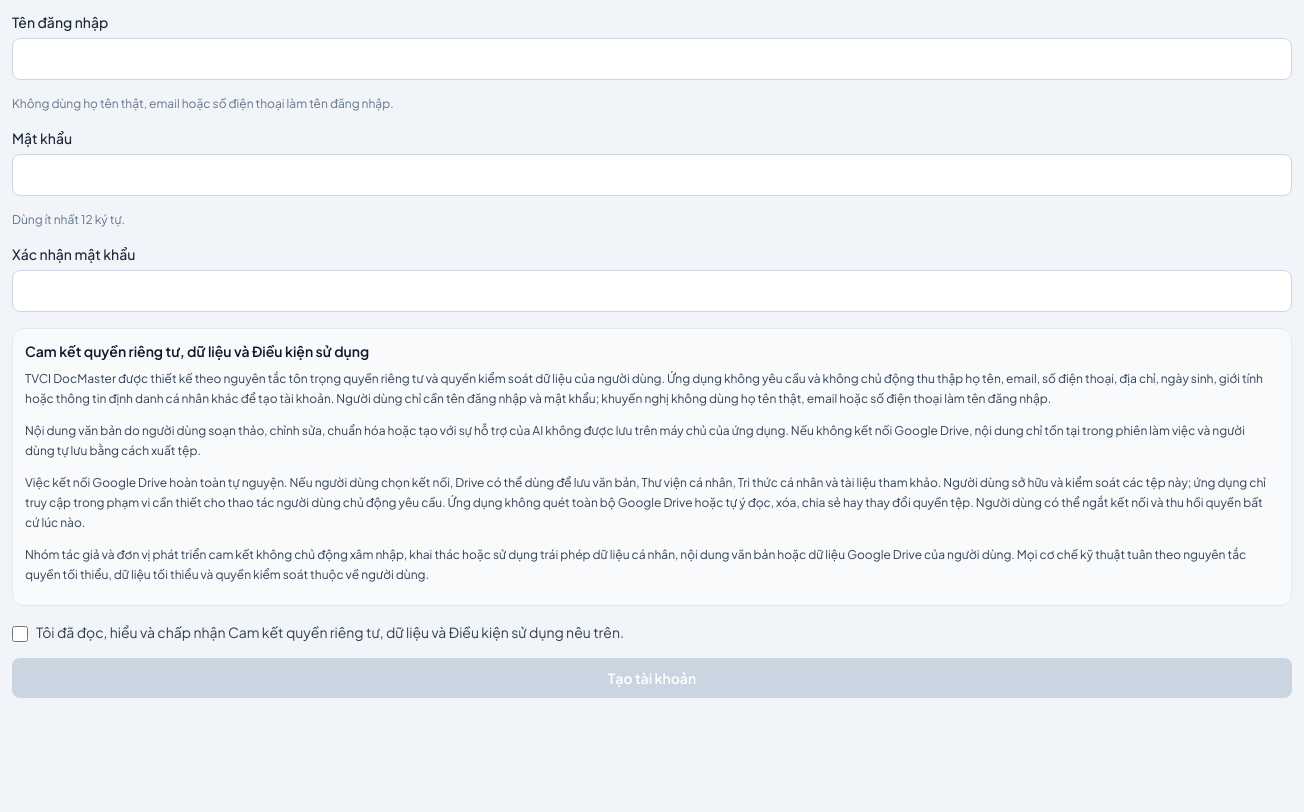
Test case: registration privacy and recovery UI › shows the recovery code once after successful registration
Type "writer_01" into the field labelled "Tên đăng nhập".
click(652, 59); type("writer_01")  # box [12,38,1292,80]
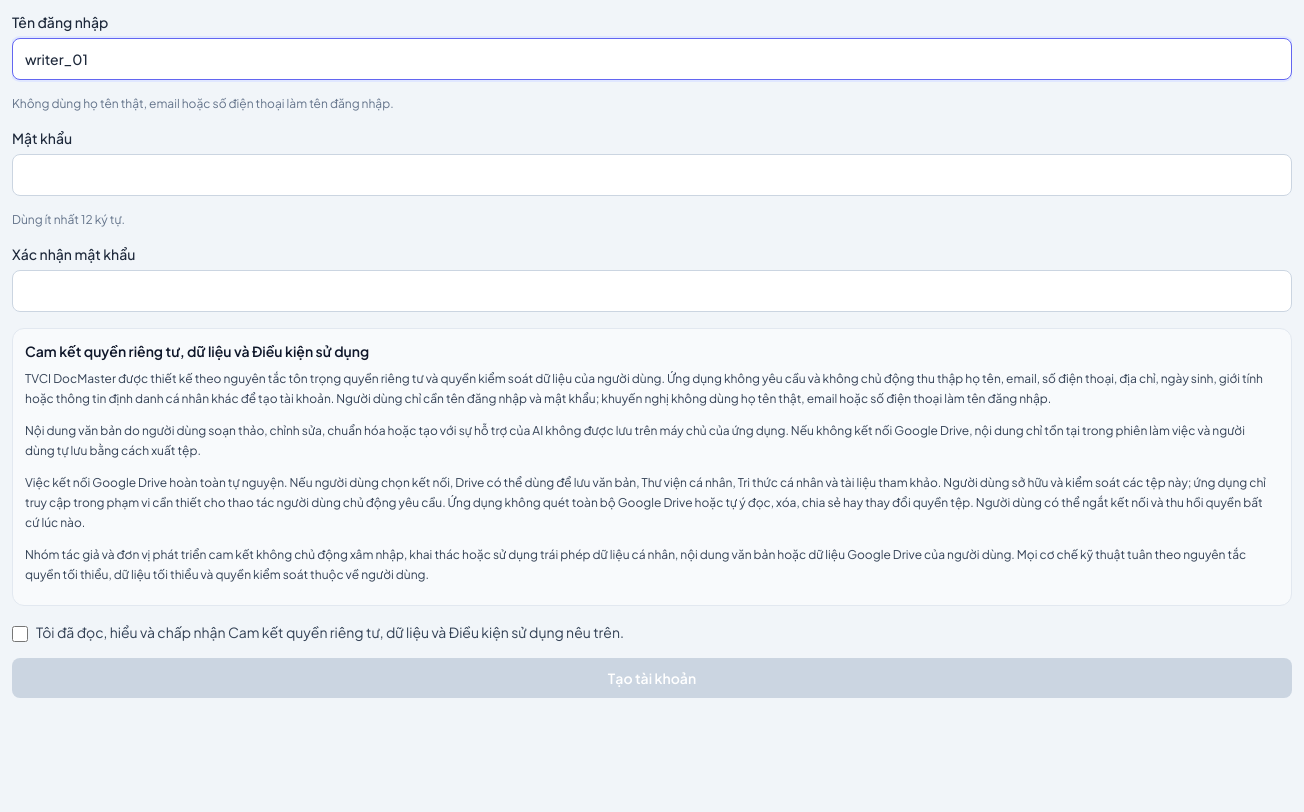
Type "not-a-real-password-1" into the password field labelled "Mật khẩu".
click(652, 175); type("not-a-real-password-1")  # box [12,154,1292,196]
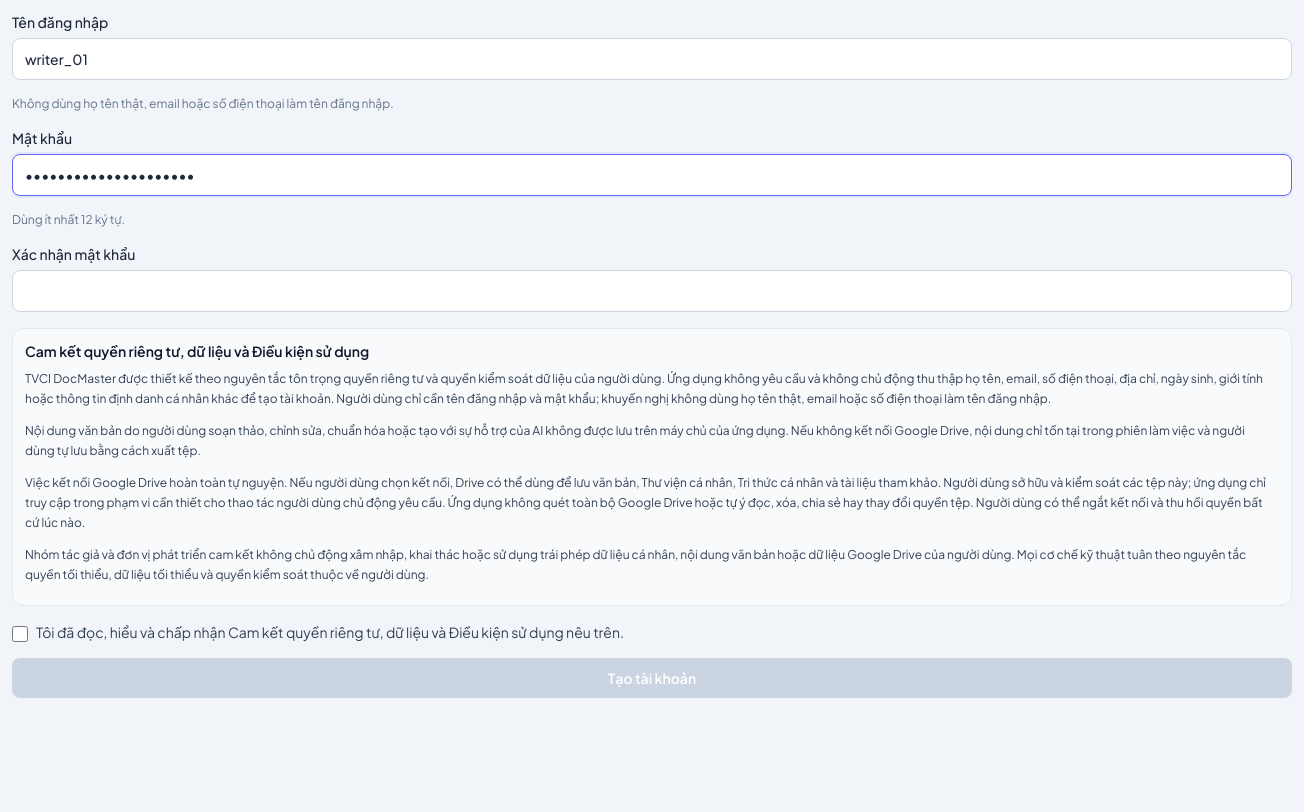
Type "not-a-real-password-1" into the password field labelled "Xác nhận mật khẩu".
click(652, 291); type("not-a-real-password-1")  # box [12,270,1292,312]
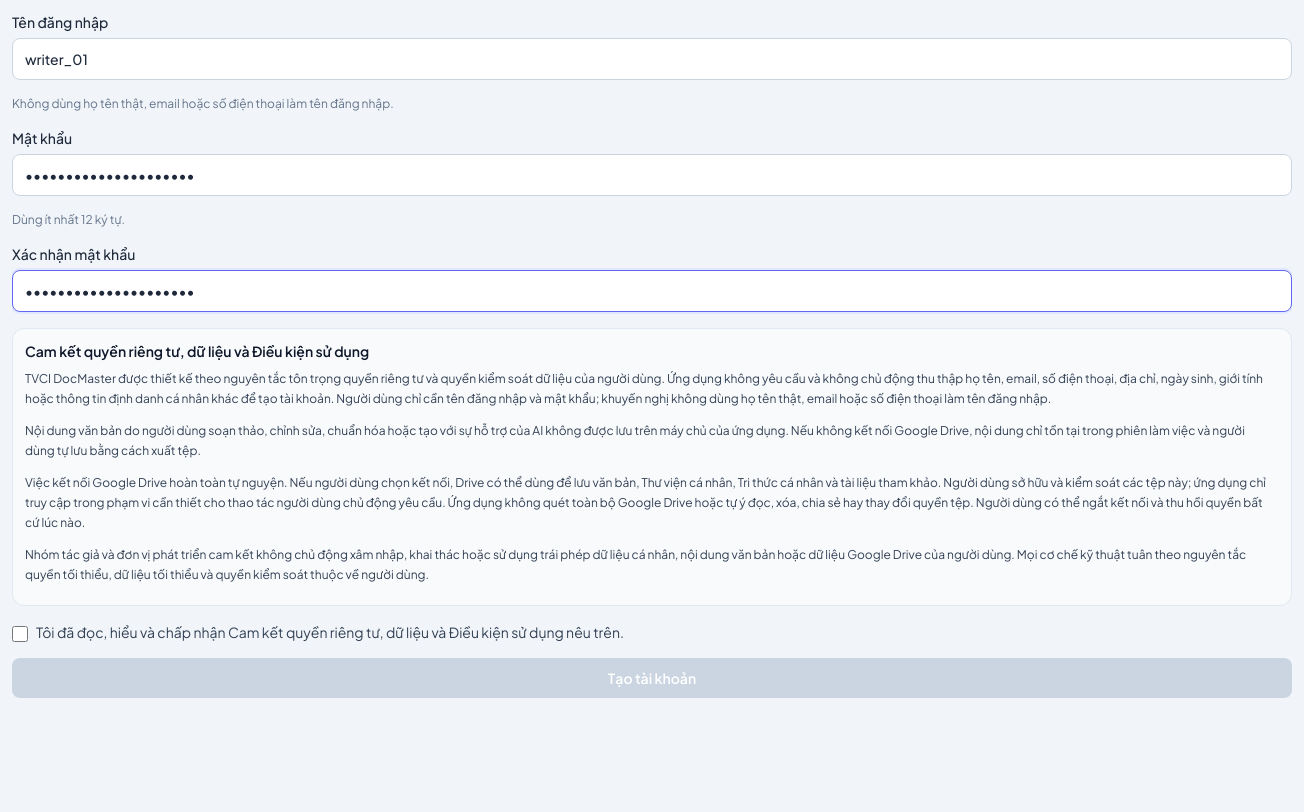
Click the checkbox.
click(20, 634)  # box [12,626,28,642]
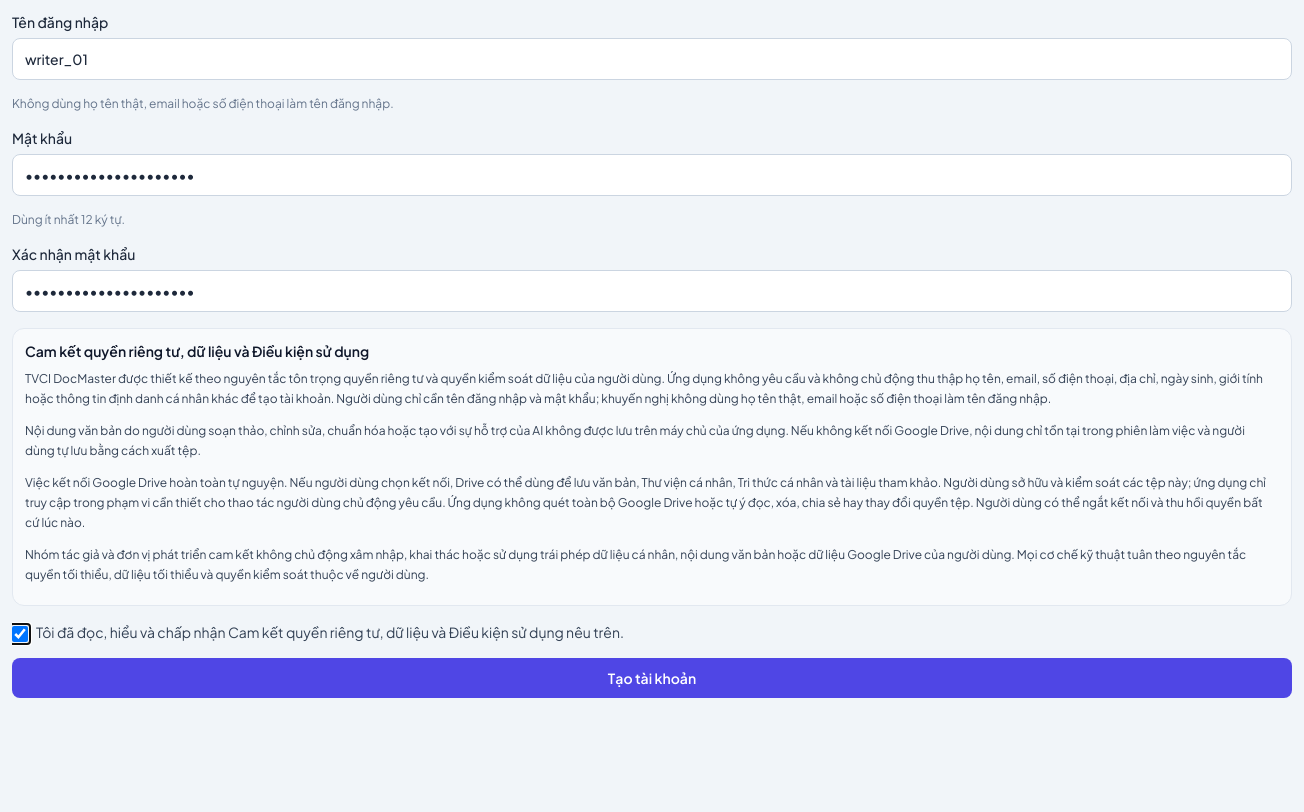
Click the button "Tạo tài khoản".
click(652, 678)  # box [12,658,1292,698]
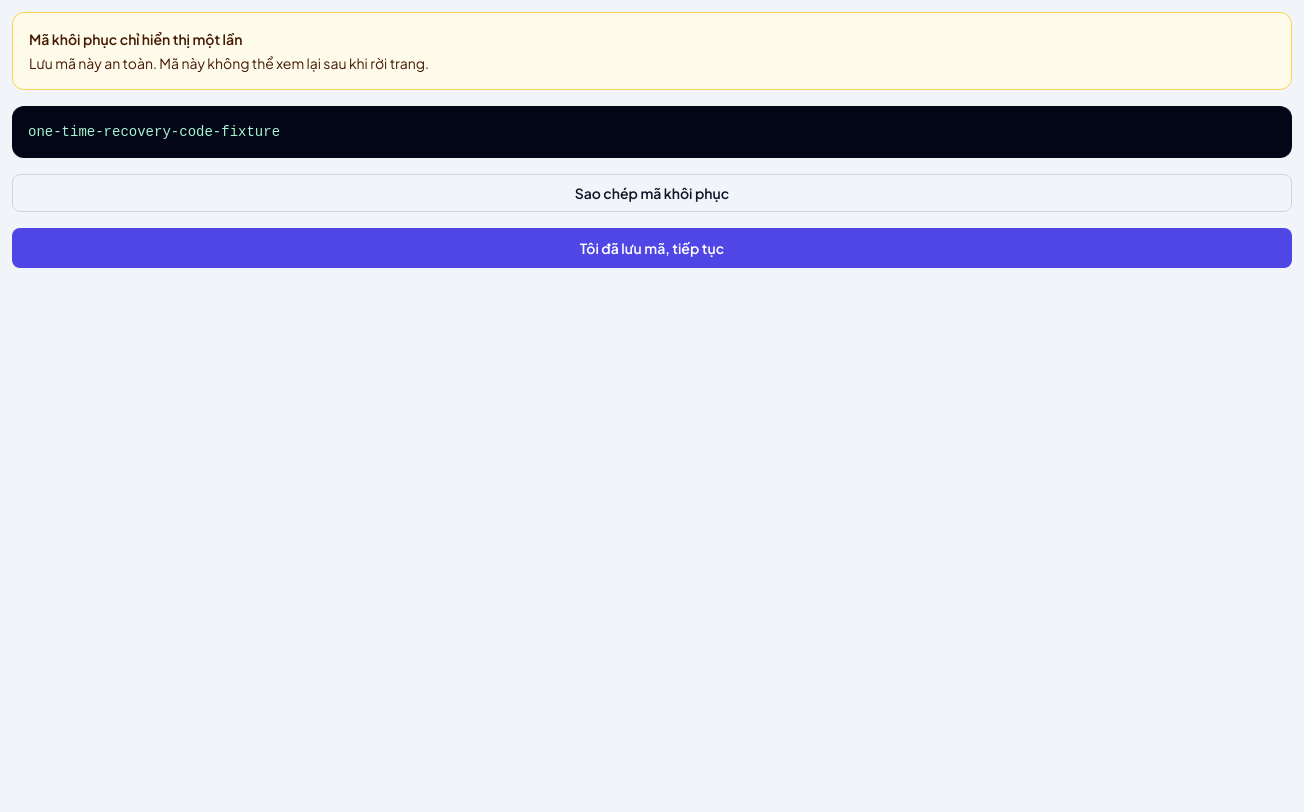
Now the text "one-time-recovery-code-fixture" is shown, box [12,106,1292,158]
Now the text "Lưu mã này an toàn" is shown, box [29,54,429,72]
